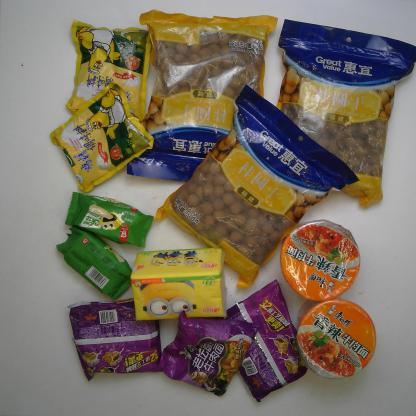Dessert: (55, 227, 133, 301), (64, 191, 154, 247)
Dried Food: (152, 84, 362, 288), (275, 15, 416, 209), (127, 10, 278, 182)
Instant Noodles: (224, 278, 310, 401), (157, 308, 260, 396), (67, 297, 163, 382), (296, 300, 376, 380), (282, 221, 361, 302)
Seasoner: (48, 84, 154, 194), (66, 18, 156, 120)
Tissue: (131, 246, 229, 324)
